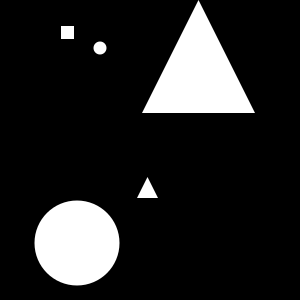circle: (61, 26, 74, 39)
rectangle: (34, 201, 120, 286), (94, 42, 106, 54)
triangle: (142, 0, 255, 113), (137, 177, 158, 198)
